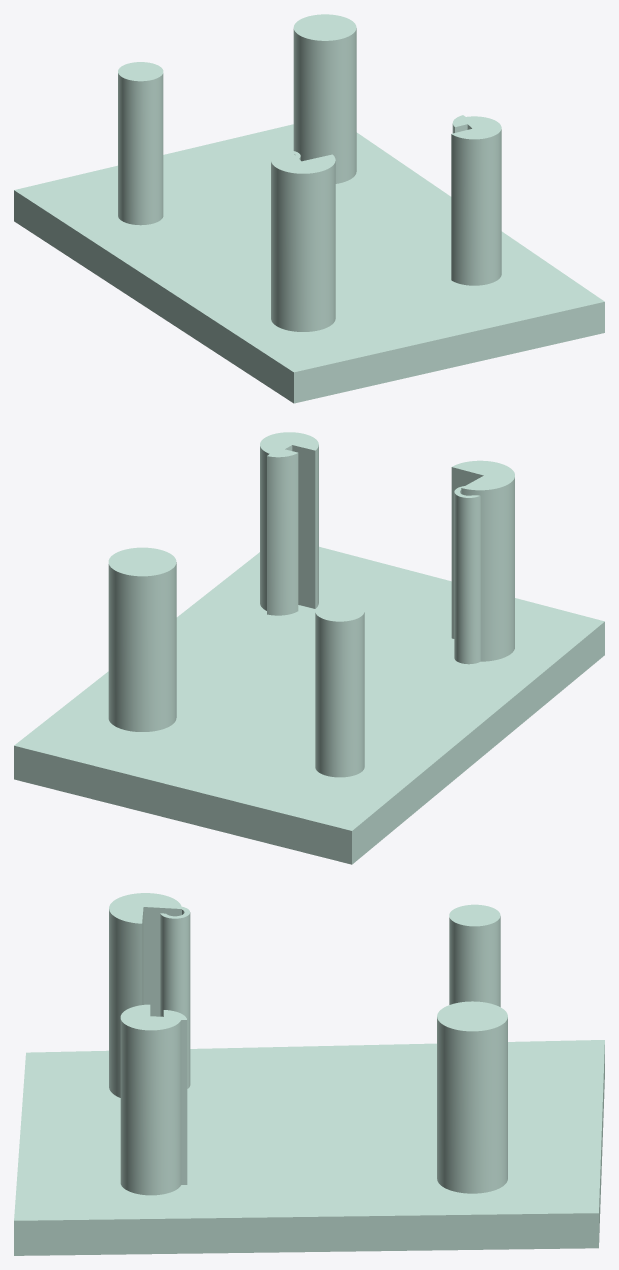
3 renders of one model, top to bottom at view 1: azimuth 30°, elevation 25°; view 2: azimuth 150°, elevation 25°; view 3: azimuth 270°, elevation 25°, orthographic. The views are drawn at different scales.
Visible parts, largest first — view 1: Renderer Node; view 2: Renderer Node; view 3: Renderer Node.
Part boxes in pixels (box(x1,y1,x2,y2)): Renderer Node: box(14, 14, 604, 403); Renderer Node: box(14, 432, 604, 864); Renderer Node: box(14, 893, 604, 1255).
Bounding box in the file's own units: 1.12 × 0.6172 × 1.55.
